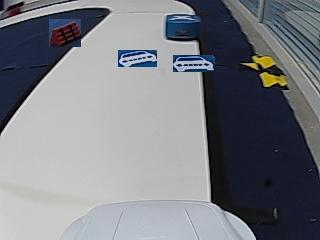prop: (166, 15, 201, 42)
